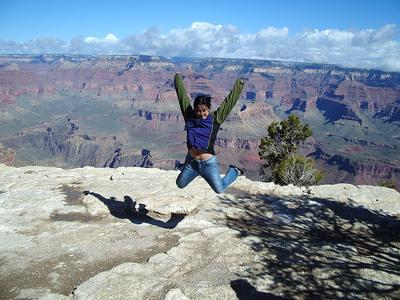person: (175, 72, 246, 194)
